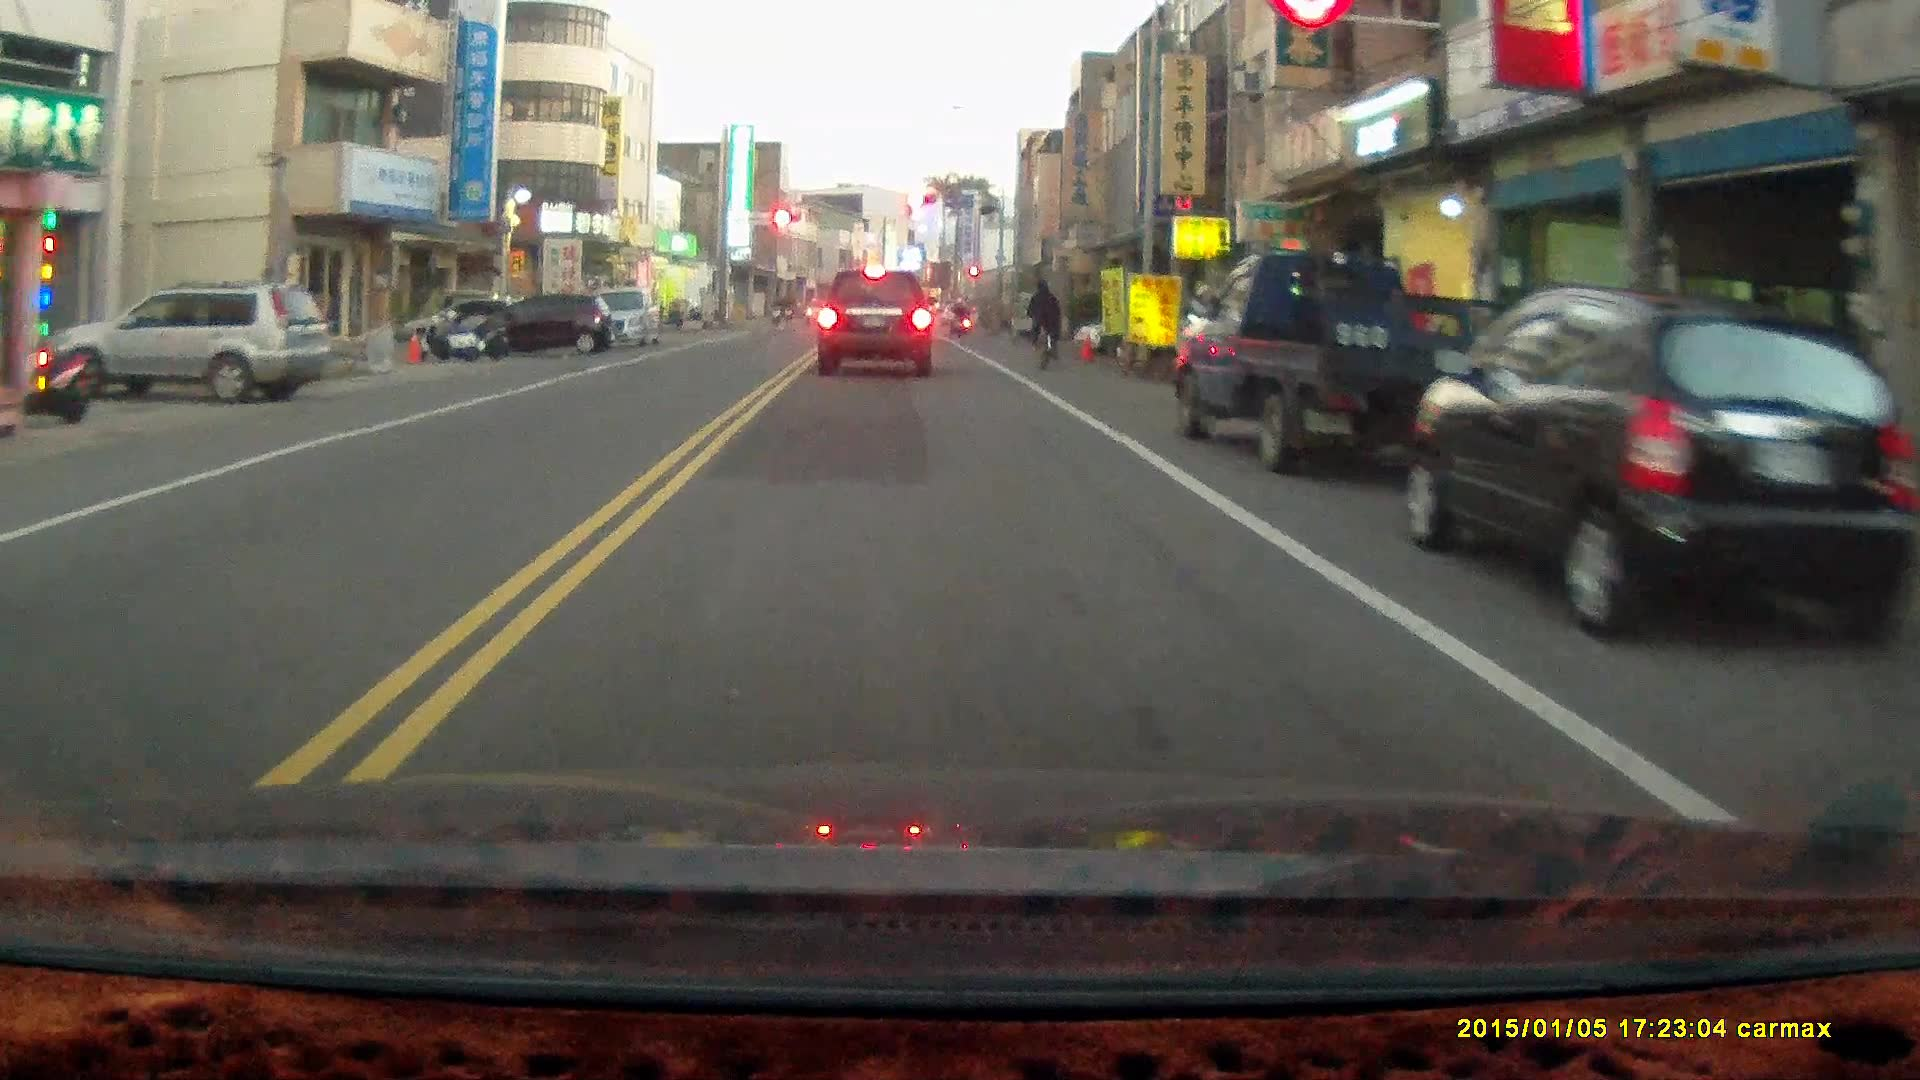rider: (1024, 272, 1065, 372)
vehicle: (1409, 287, 1906, 645), (1174, 245, 1518, 464), (53, 272, 332, 410), (817, 263, 937, 378), (479, 293, 628, 360), (570, 282, 664, 353)
